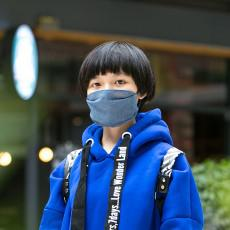OK: (86, 68, 145, 127)
